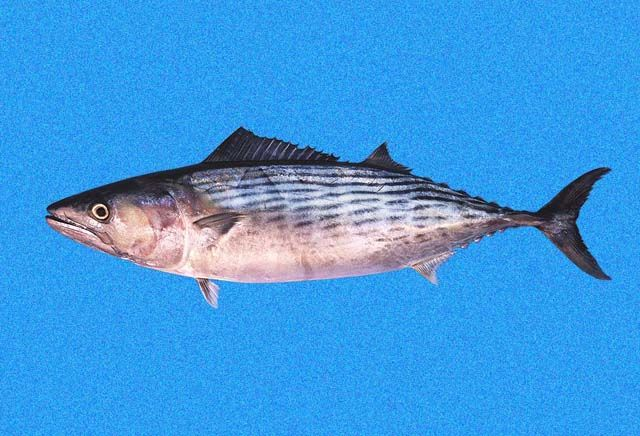fish: (46, 126, 613, 310)
